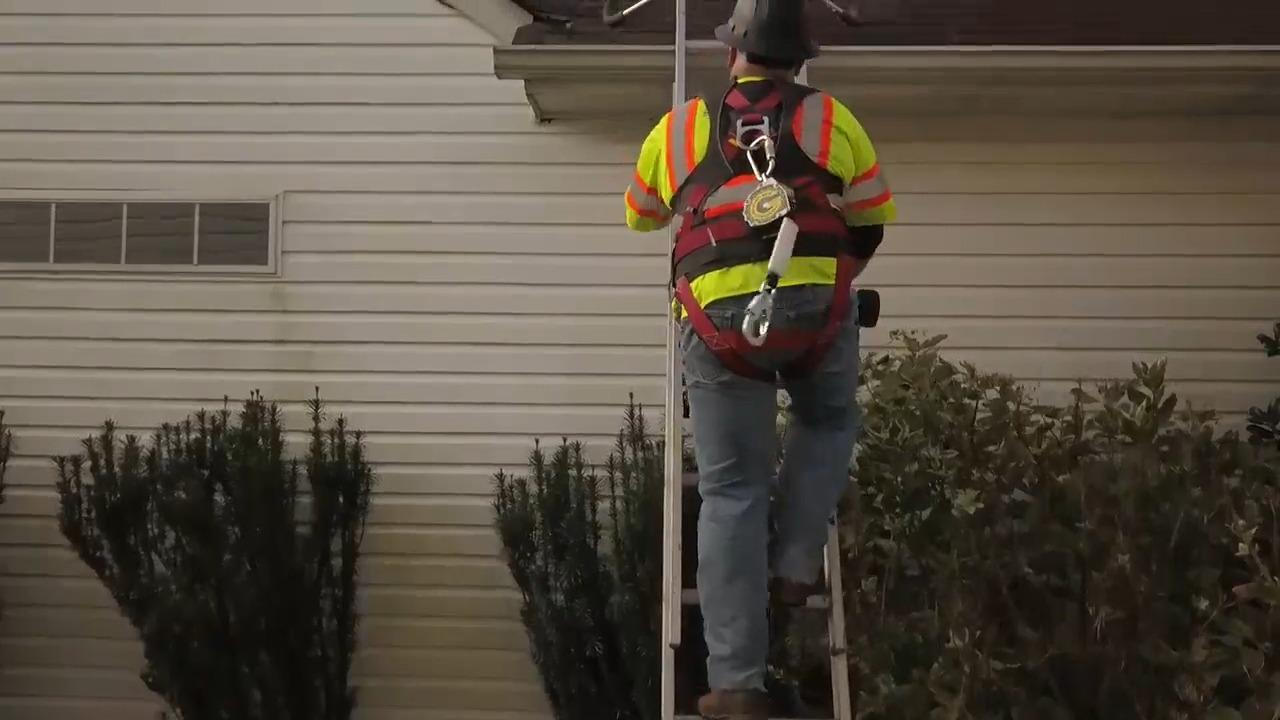Helmet: (712, 0, 821, 63)
Person: (653, 0, 907, 708)
Safety Boot: (700, 682, 779, 720), (770, 565, 827, 606)
Safety Vest: (664, 112, 856, 266)
